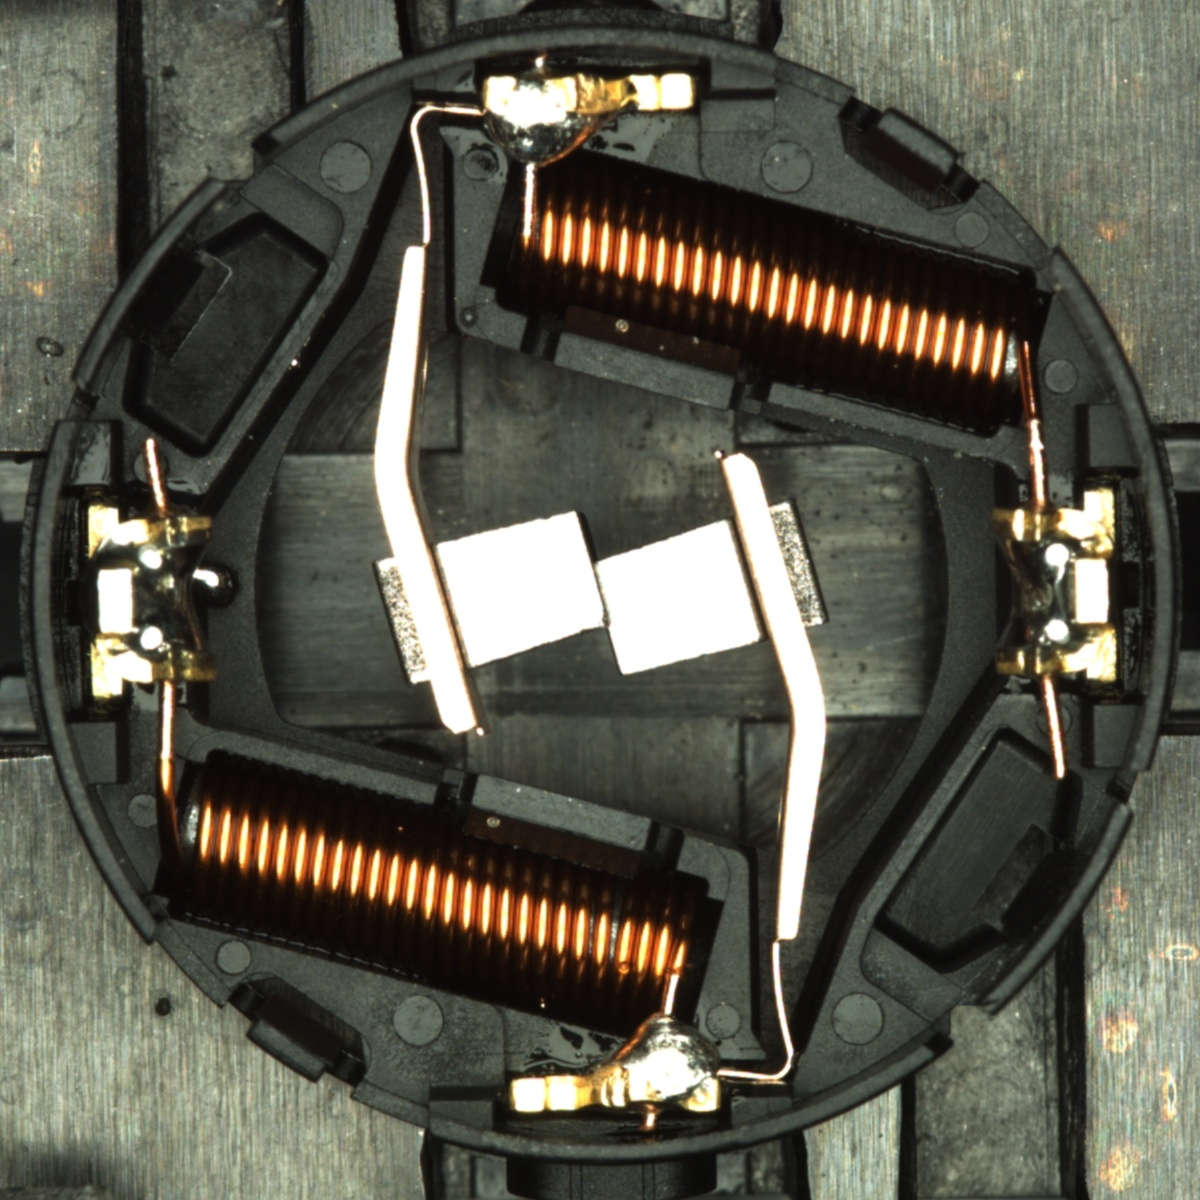1: (710, 929, 940, 1154), (252, 32, 481, 256)
2: (252, 929, 481, 1154), (710, 32, 940, 256)
3: (22, 256, 252, 480), (940, 704, 1168, 929)
4: (252, 256, 481, 480), (710, 704, 940, 929)
5: (481, 816, 710, 1042), (481, 144, 710, 368)
6: (710, 256, 940, 480), (252, 704, 481, 929)
7: (22, 704, 252, 929), (940, 256, 1168, 480)
cacbon: (392, 499, 799, 686)
chau_dien: (80, 497, 223, 704), (985, 489, 1124, 688)
hat_chi: (189, 562, 237, 611)
tay_choi: (479, 70, 700, 173), (509, 1014, 724, 1116)
thanh_de: (58, 164, 245, 405), (955, 788, 1140, 1030)
